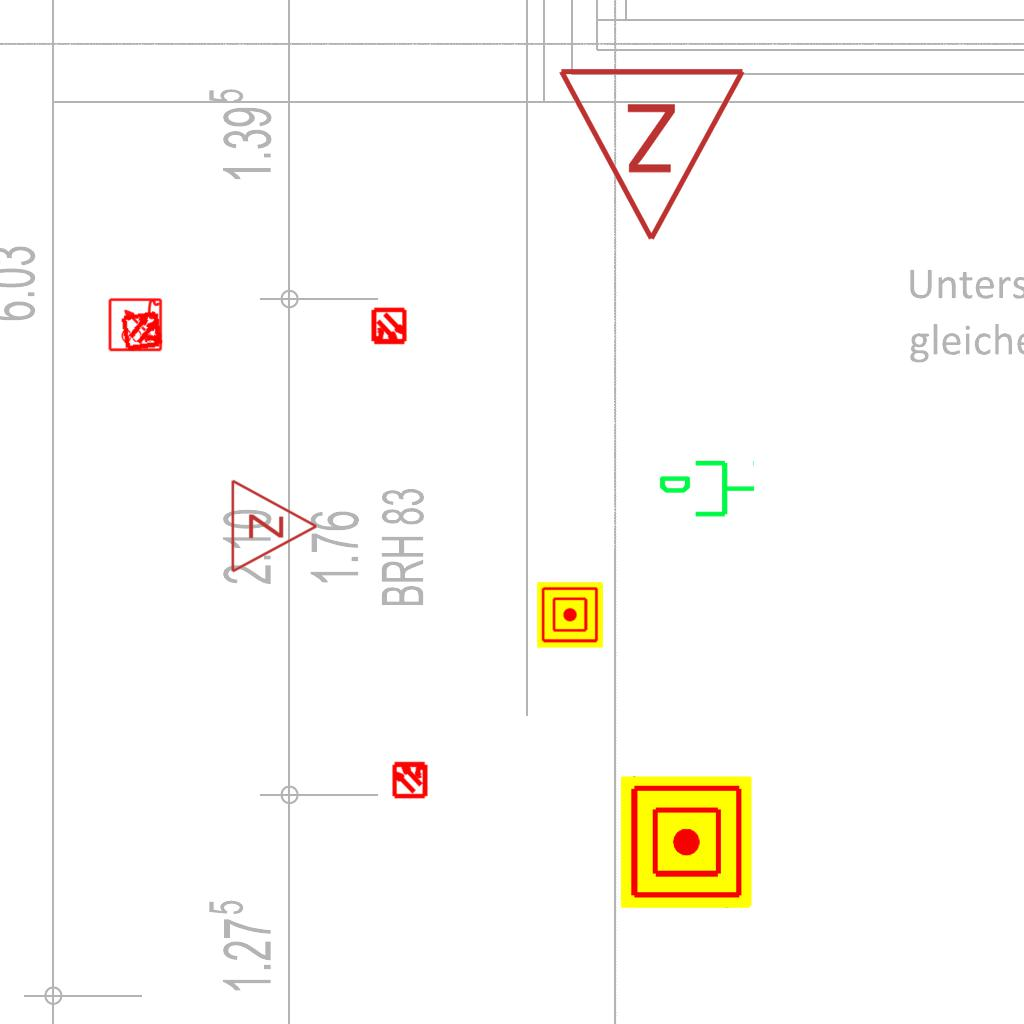Datenanschluss_einfach: (657, 456, 757, 525)
NAM-Nichtautomatischer_Melder: (620, 776, 752, 908), (537, 582, 603, 648)
OT_Multisensormelder_(Kombination_RMO_WMD): (111, 299, 175, 363), (361, 299, 417, 355), (382, 751, 438, 807)
ROA_Rauchmelder_optisch_mit_Signalgeber_(Sockelsirene): (107, 296, 163, 352)
Zimmersignalleuchte: (556, 54, 752, 254), (224, 476, 324, 574)
